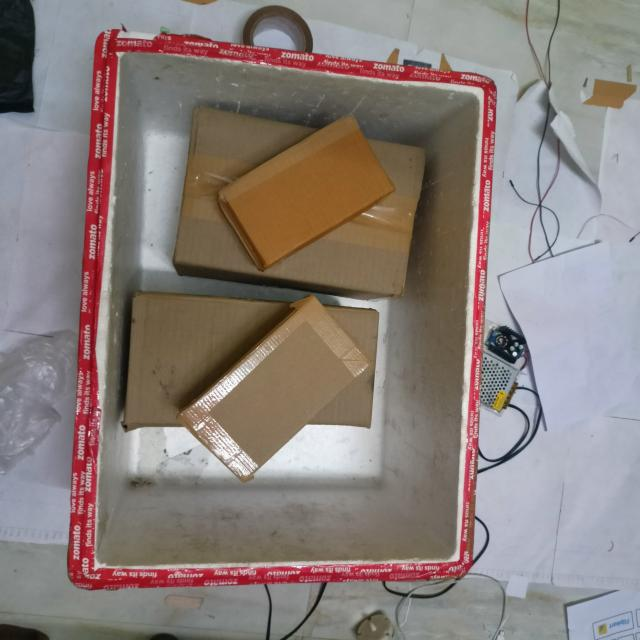box: (199, 298, 377, 479), (219, 116, 401, 268)
